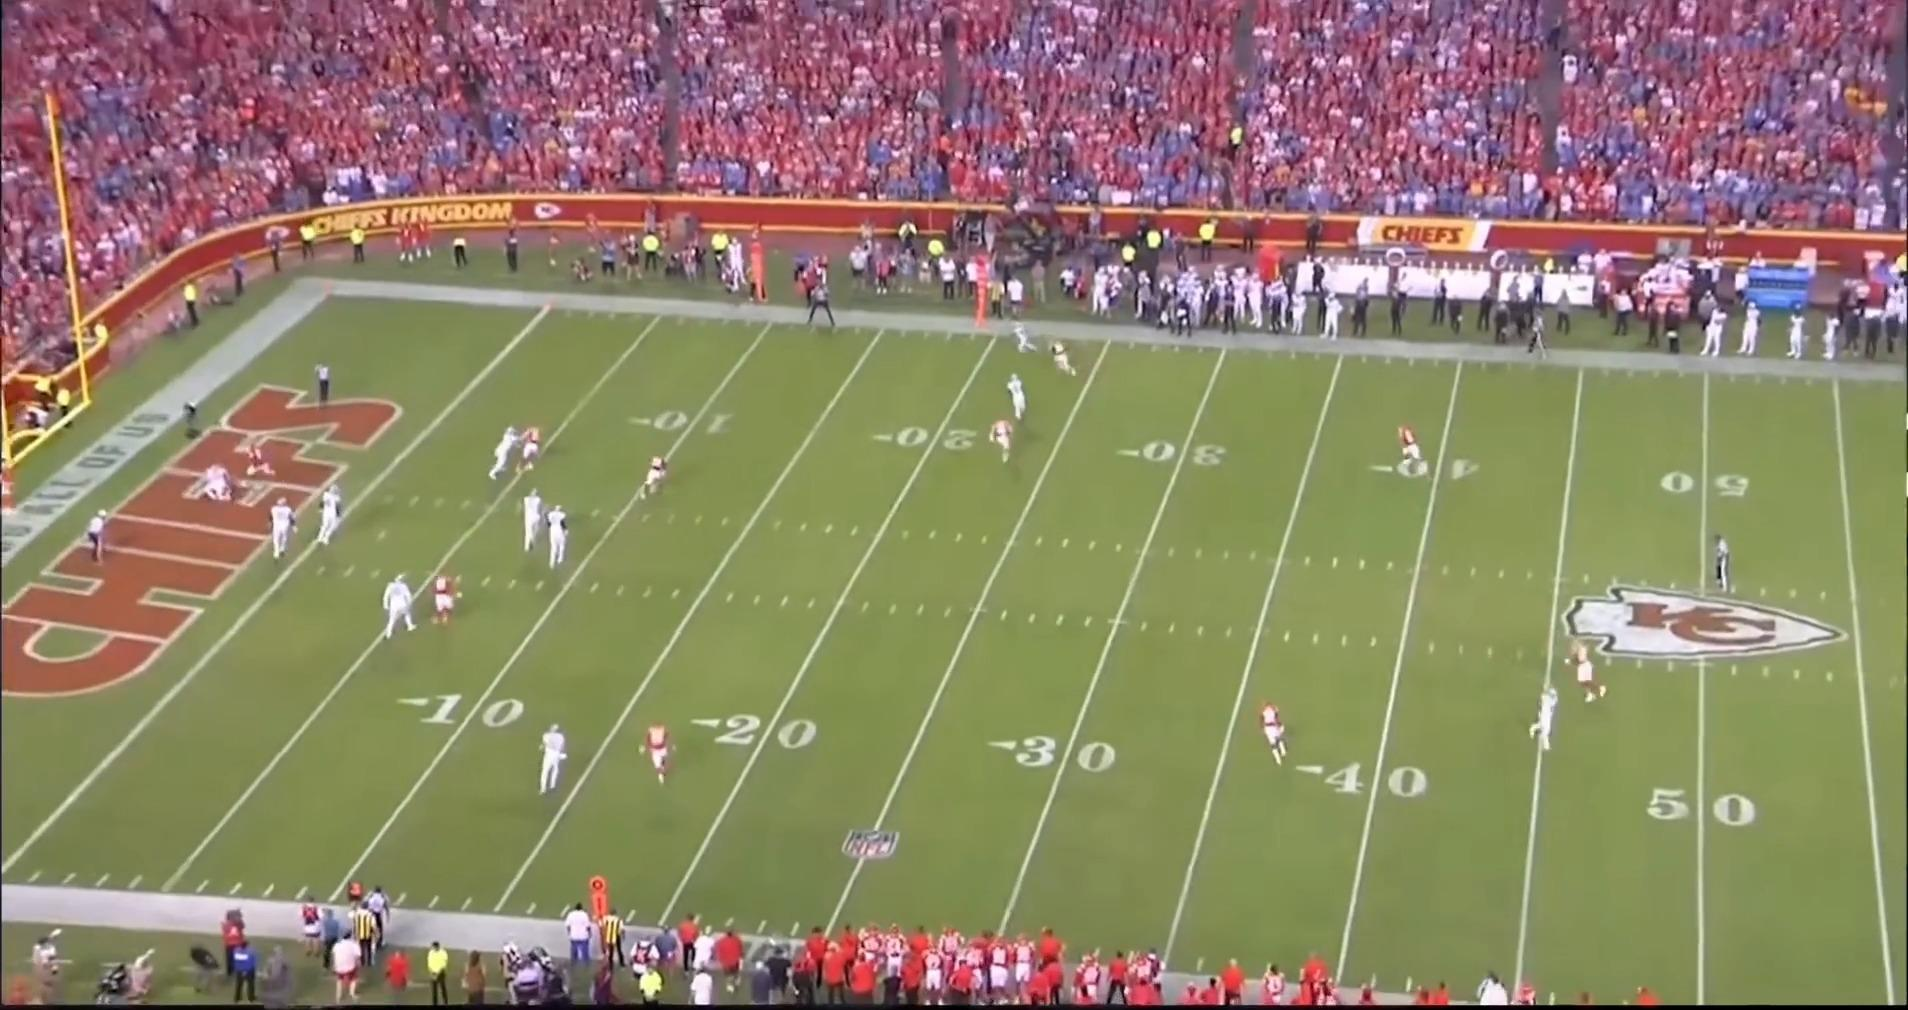player: (1568, 640, 1613, 707), (484, 421, 525, 483), (382, 573, 420, 638), (536, 722, 569, 796), (1255, 700, 1292, 764), (645, 718, 679, 786), (1524, 688, 1558, 756), (317, 482, 349, 548), (269, 498, 300, 562), (543, 502, 573, 568), (516, 488, 545, 555), (243, 435, 278, 489), (1397, 424, 1431, 476), (427, 573, 459, 627), (520, 423, 553, 475), (636, 451, 669, 499), (1049, 337, 1083, 381), (204, 458, 235, 503), (991, 415, 1016, 466), (1001, 372, 1025, 423), (1009, 320, 1035, 360)
ref: (1710, 533, 1737, 597), (84, 508, 114, 565), (805, 282, 838, 330), (1523, 309, 1552, 358), (315, 359, 338, 411)
